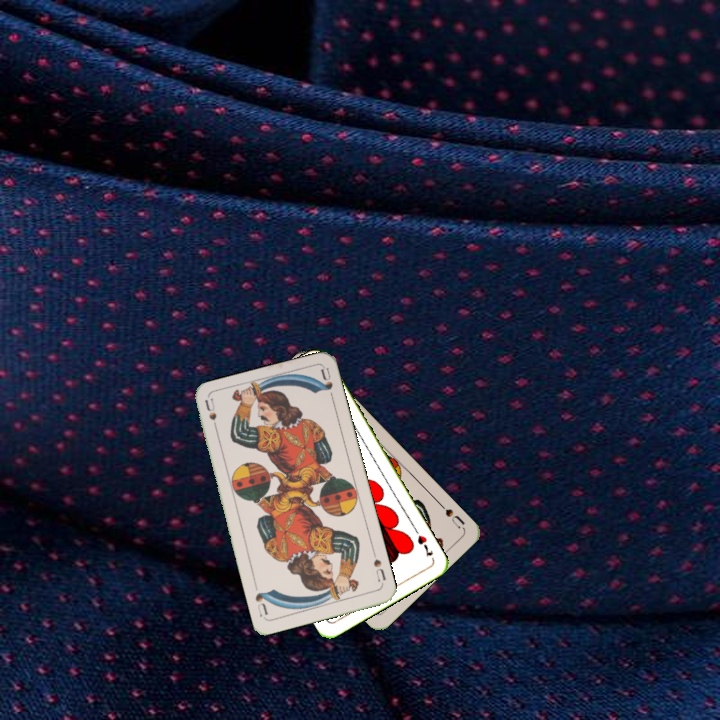H7: (410, 525, 436, 559)
SU: (435, 499, 467, 531), (201, 396, 221, 436), (369, 548, 388, 588)
